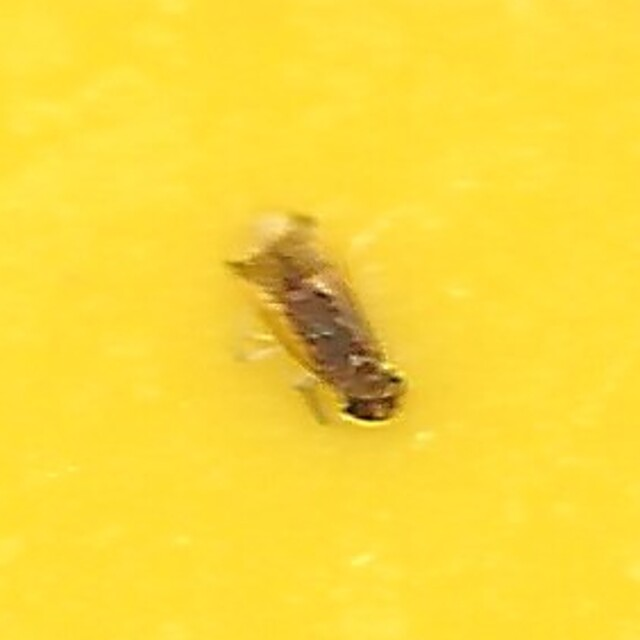Hemiptera: (227, 205, 413, 435)
